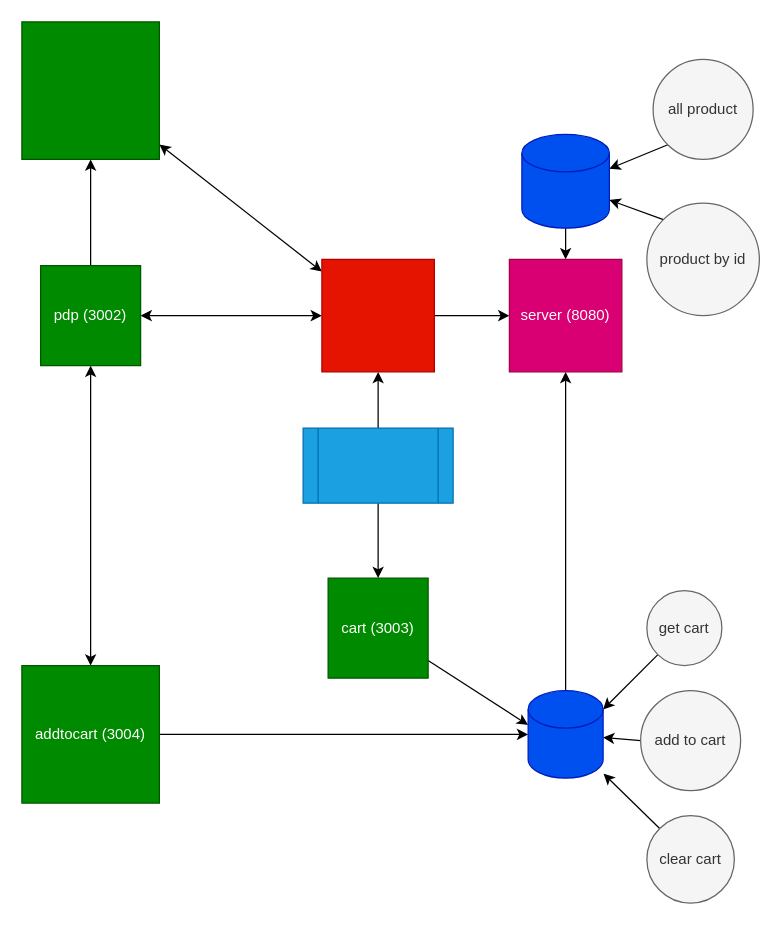
This 781x925 diagram has some shape labels left out. The shapes that lost their labels are listed below. From the top down, each one's centre as x and y in pixels, then its label:
At (x=90, y=90): "products (3001)".
At (x=565, y=180): "product".
At (x=377, y=315): "shell (3000)".
At (x=377, y=465): "ACL (ProductService)".
At (x=565, y=733): "cart".
